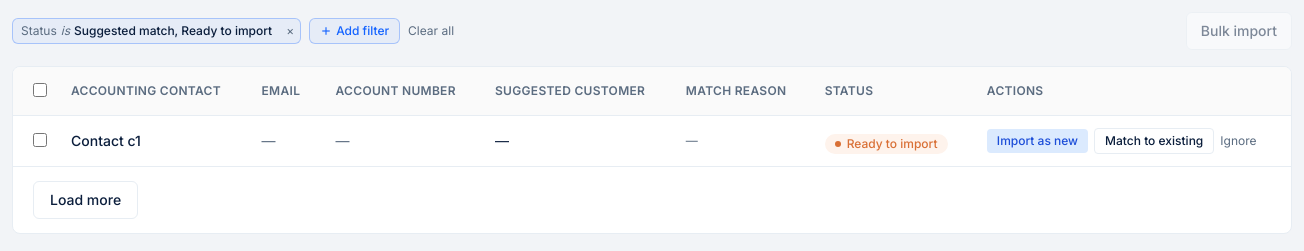
Test: ContactsTab › loads the next page and appends results on Load more
Expected: the text "Contact c1" is shown, top-left (55, 116), bottom-right (246, 166)
Click the button "Load more".
click(86, 200)  # box top-left (33, 181), bottom-right (138, 219)
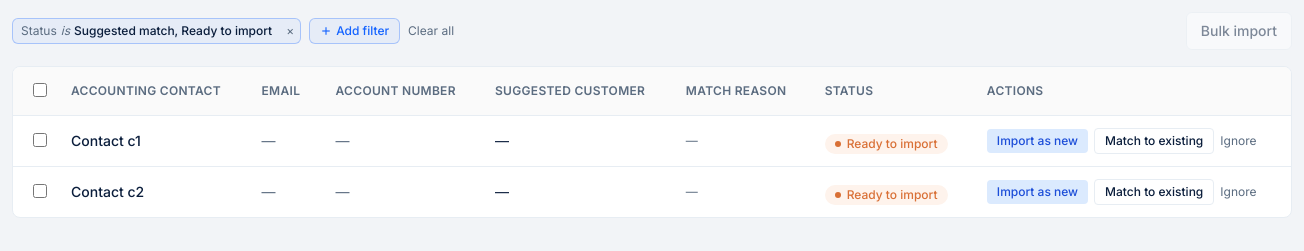
Expected: the text "Contact c1" is shown, top-left (55, 116), bottom-right (246, 166)
Expected: the text "Contact c2" is shown, top-left (55, 166), bottom-right (246, 217)
Expected: the button "Load more" is gone
